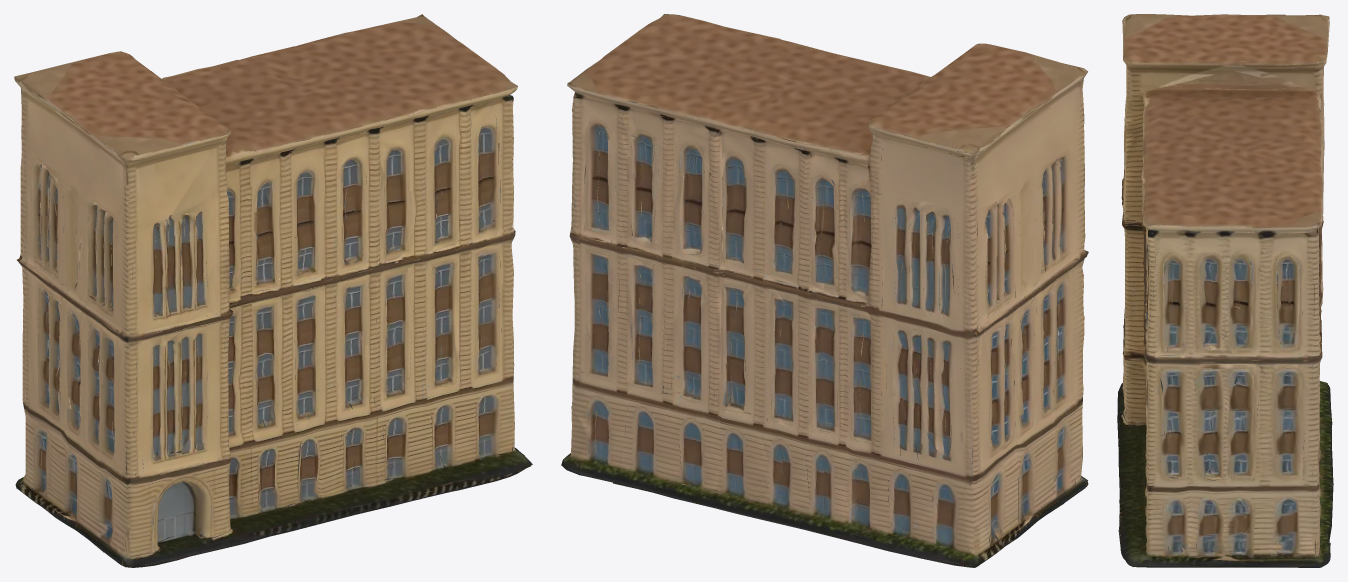
File: tenement-6.glb
3 views of the same model, side by side, from view 1: azimuth 30°, elevation 25°; view 2: azimuth 150°, elevation 25°; view 3: azimuth 270°, elevation 25° (orthographic). The views are drawn at different scales.
Visible parts, largest first — view 1: Building; view 2: Building; view 3: Building.
Part boxes in pixels (bbox=[...]): Building: bbox=[14, 14, 532, 567]; Building: bbox=[561, 14, 1088, 567]; Building: bbox=[1117, 14, 1333, 567].
Bounding box in the file's own units: 1.9 × 1.83 × 0.9512.
1 material, 1 textured.
